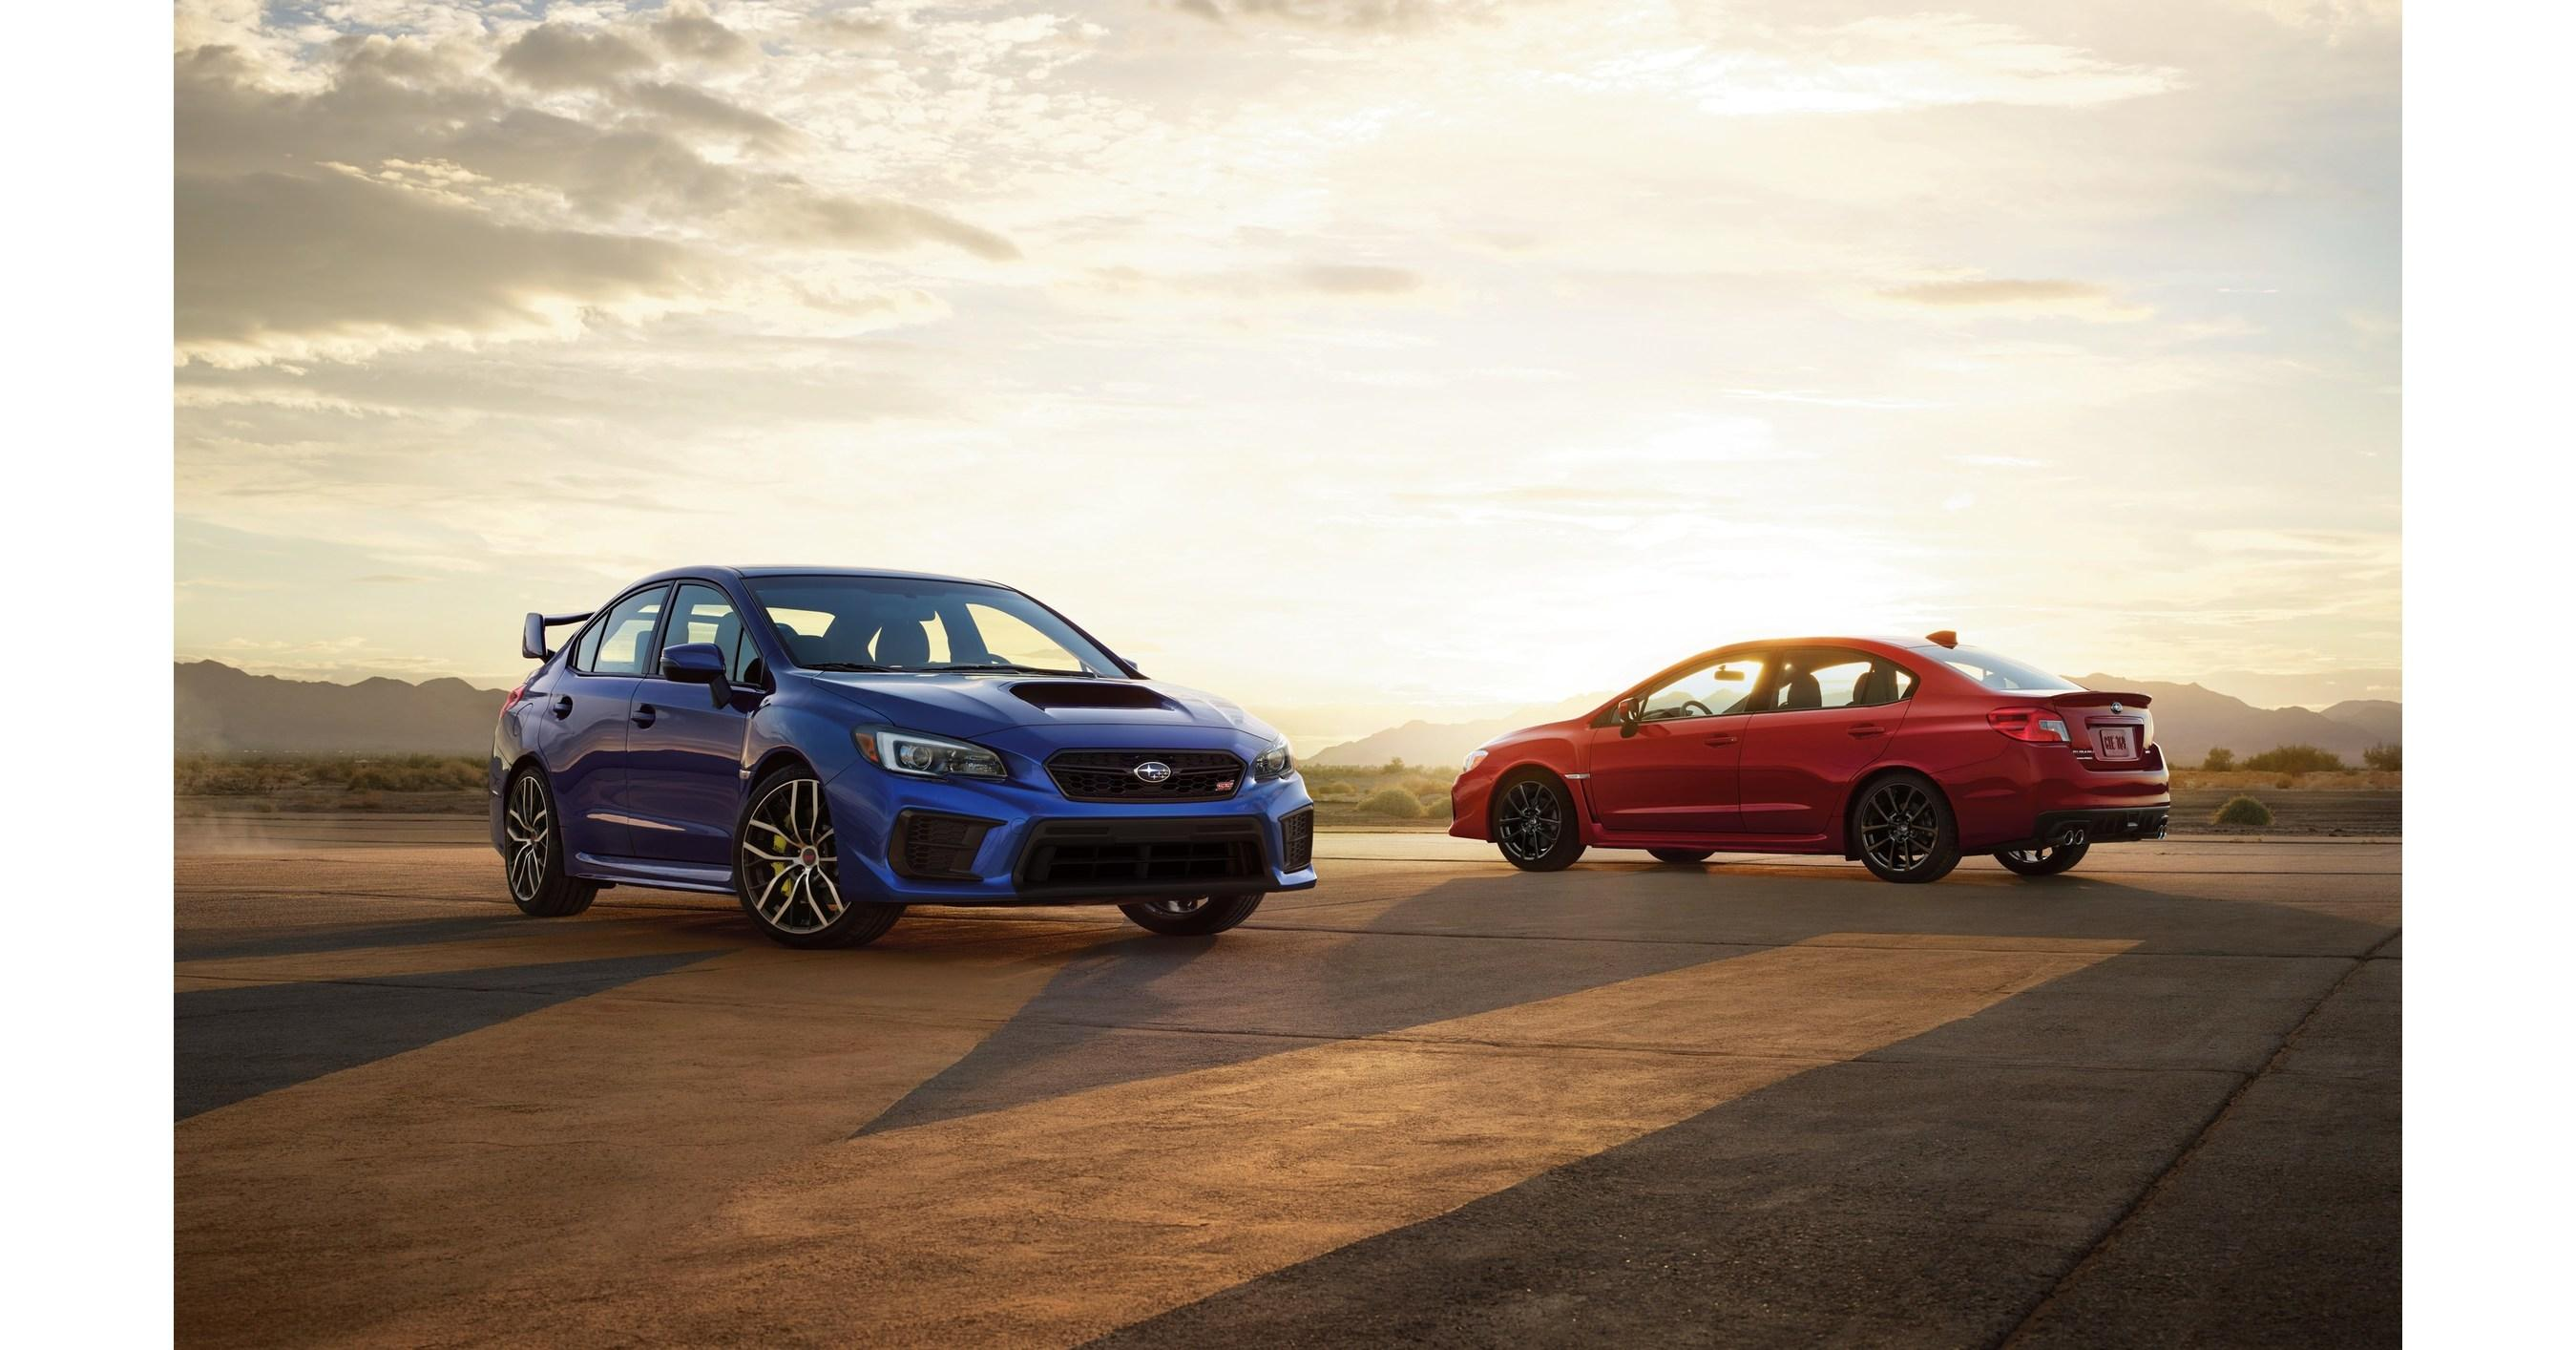subaru: (1128, 752, 1182, 789)
